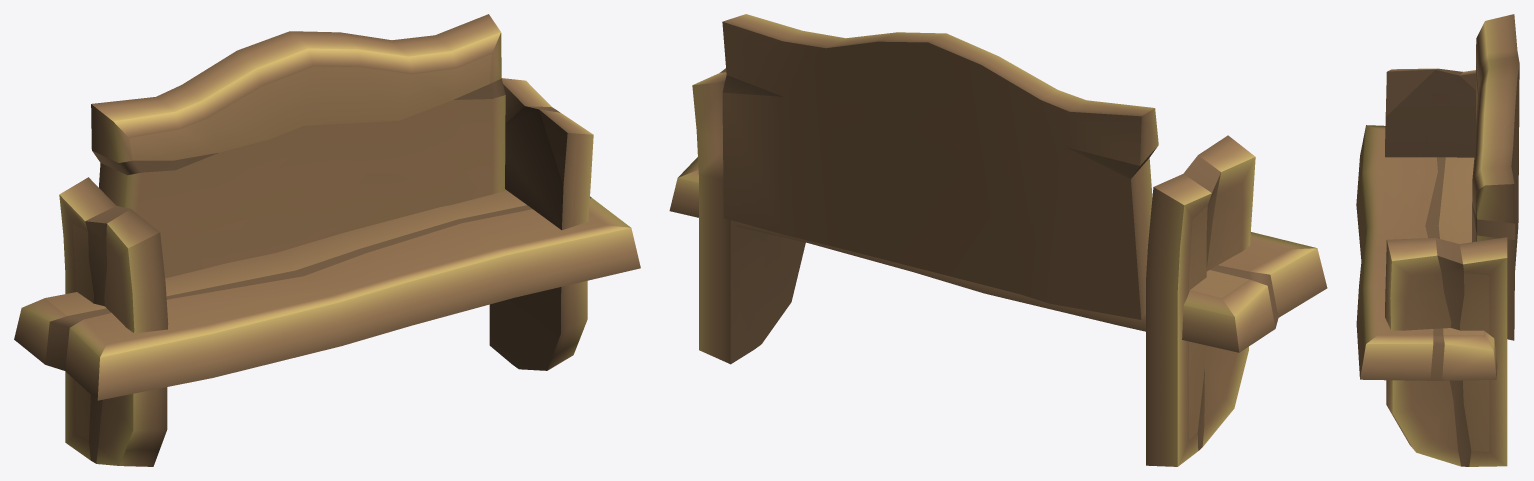
Rendered from tavern_book_shelf.fbx.
The picture shows the model from 3 angles, left to right: view 1: azimuth 30°, elevation 25°; view 2: azimuth 150°, elevation 25°; view 3: azimuth 270°, elevation 25°; orthographic projection. The views are drawn at different scales.
Parts seen in each view (by area): view 1: tavern_book_shelf_LOD0; view 2: tavern_book_shelf_LOD0; view 3: tavern_book_shelf_LOD0.
Boxes of the visible parts, x1=… form: tavern_book_shelf_LOD0: x1=14, y1=14, x2=640, y2=466; tavern_book_shelf_LOD0: x1=669, y1=14, x2=1327, y2=466; tavern_book_shelf_LOD0: x1=1356, y1=14, x2=1519, y2=466.
Size of what is drawn, in the model's own units: 220 by 138 by 67.42.
